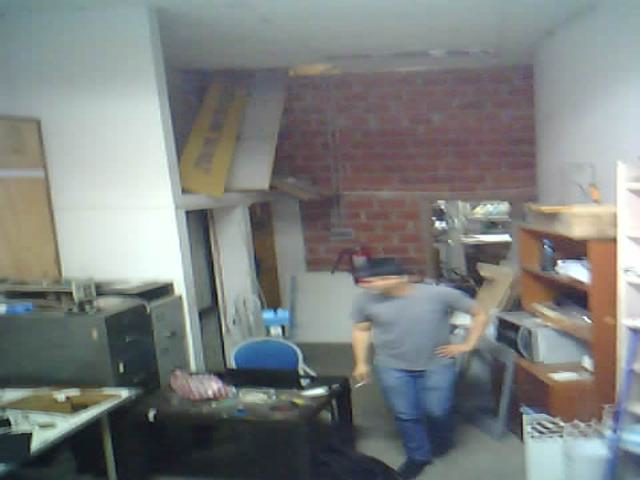person: (334, 257, 489, 480)
